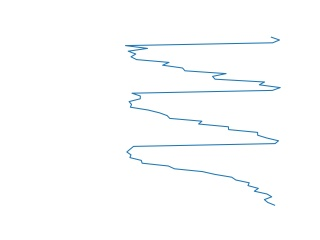distributaryMouthBar: (122, 34, 284, 209)
